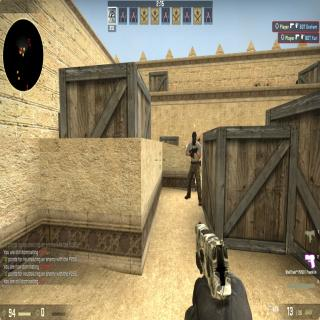T-Body: (184, 129, 202, 206)
T-Head: (190, 129, 198, 145)
